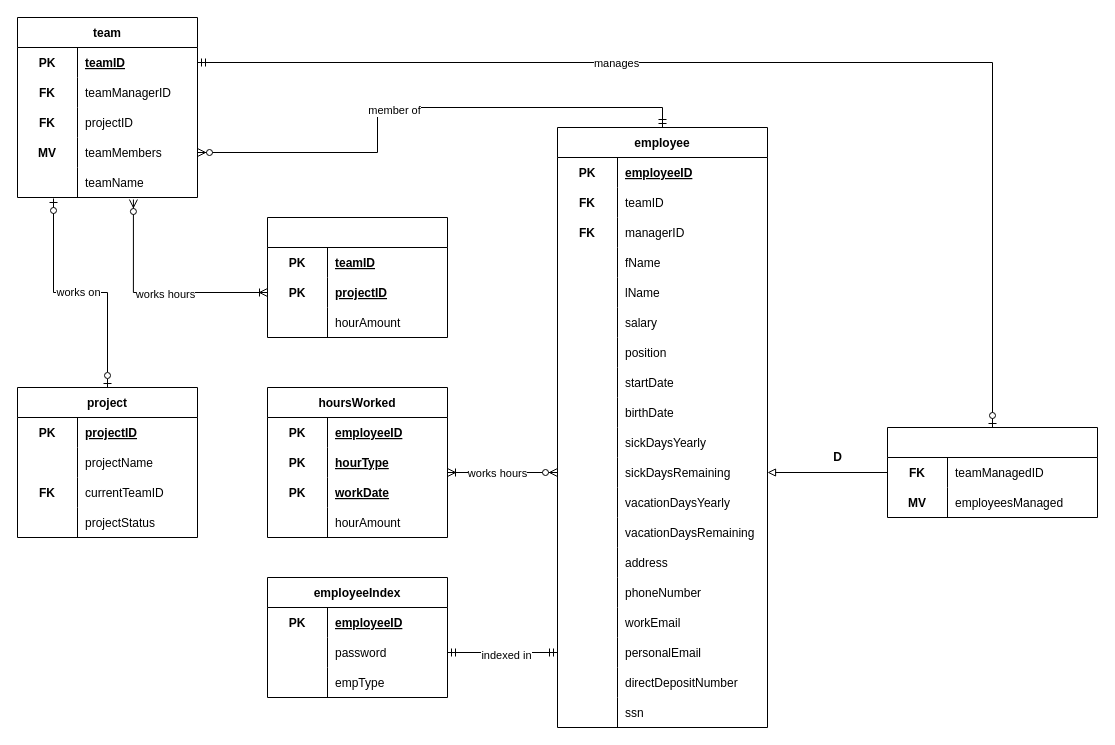
Image size: 1115x745. Some labels were removed from this diagram. The box of each missing label's shape, as (x1, y1, x2, y2) in pixels:
manager: (886, 426, 1098, 518)
teamHourWorked: (266, 216, 448, 338)
